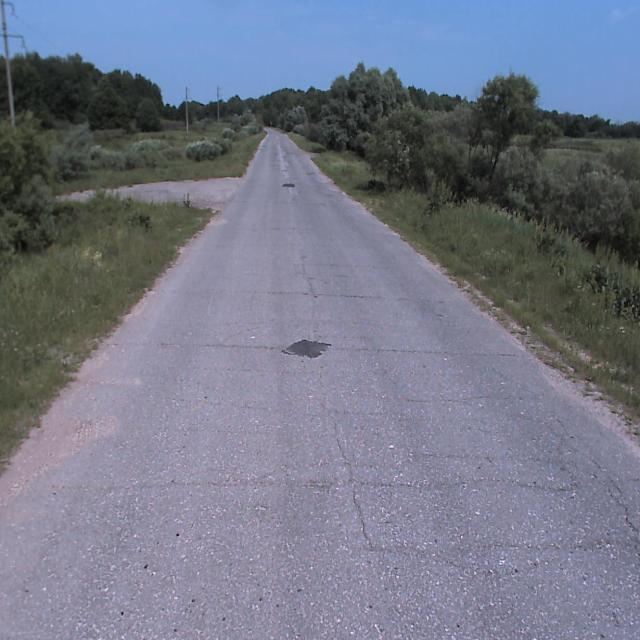road: (0, 128, 639, 639)
